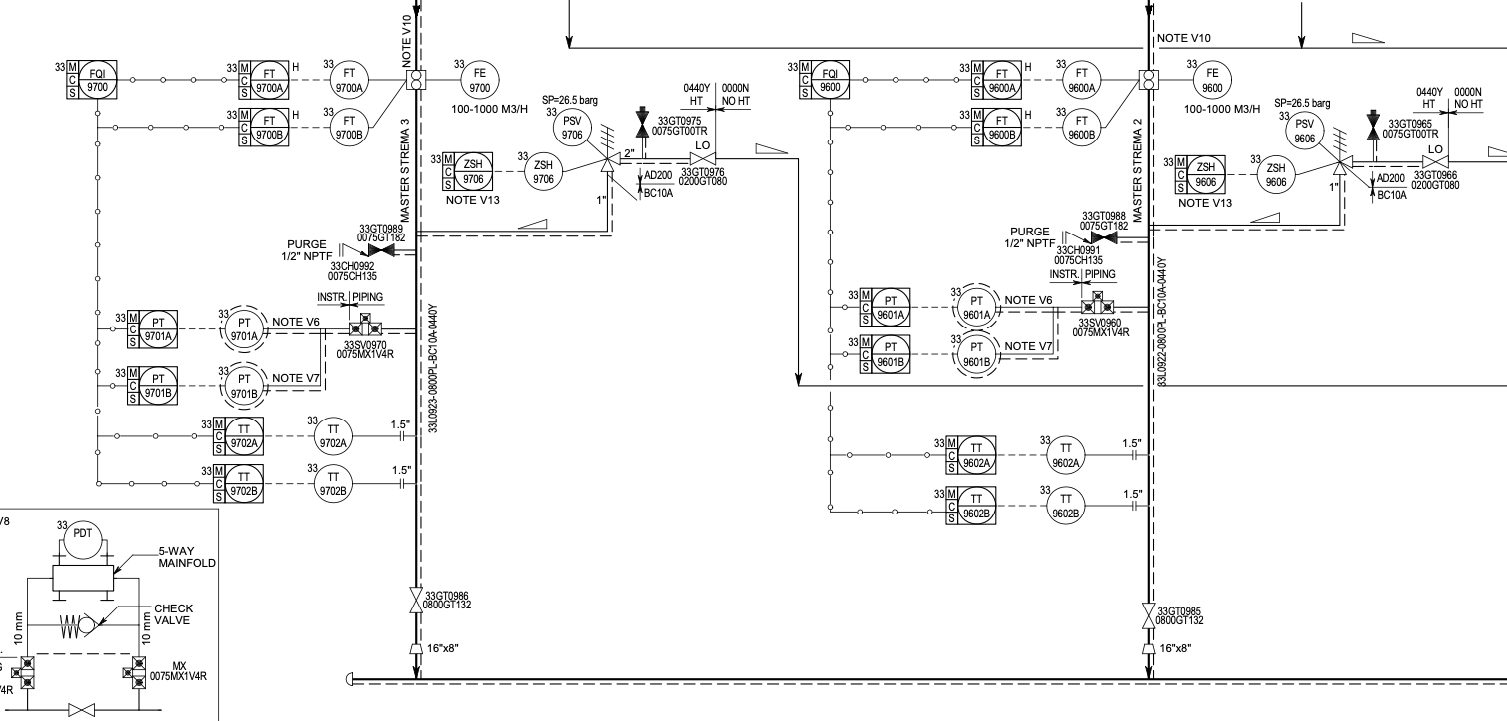Instrument: (449, 44, 505, 102), (1046, 54, 1109, 101), (1246, 144, 1300, 198), (304, 458, 360, 510), (212, 302, 269, 353), (1034, 481, 1090, 531), (510, 146, 568, 194), (320, 49, 372, 102), (947, 279, 999, 330), (211, 361, 267, 408), (319, 102, 376, 148), (1034, 429, 1089, 476), (1181, 53, 1234, 100), (1054, 104, 1107, 150), (302, 411, 356, 456), (540, 104, 593, 149), (1272, 109, 1329, 149)
Instrument-square: (50, 46, 125, 108), (223, 50, 303, 102), (222, 105, 302, 156), (111, 300, 186, 353), (932, 424, 1001, 479), (926, 484, 1000, 535), (843, 279, 914, 330), (199, 462, 271, 511), (842, 333, 917, 380), (786, 55, 859, 103), (958, 105, 1030, 153), (1159, 148, 1231, 195), (110, 362, 183, 408), (956, 55, 1029, 100), (199, 412, 267, 460), (428, 146, 495, 192)
